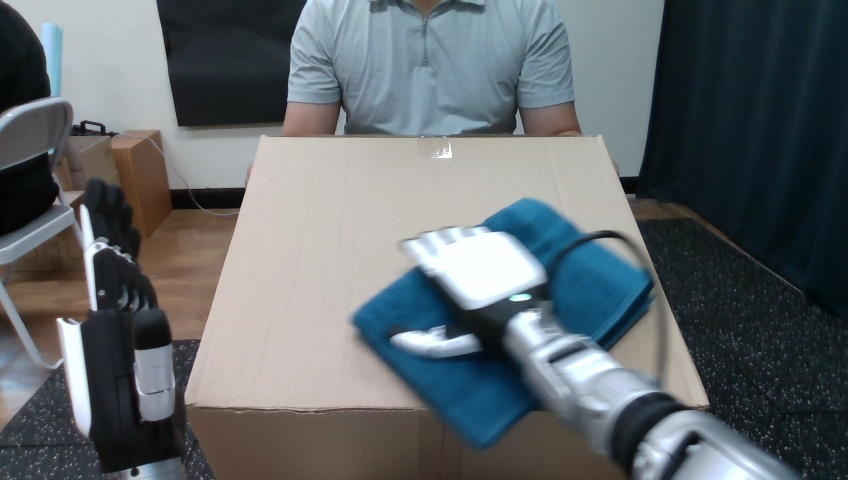left robot hand: (390, 226, 797, 479), (57, 178, 184, 479)
